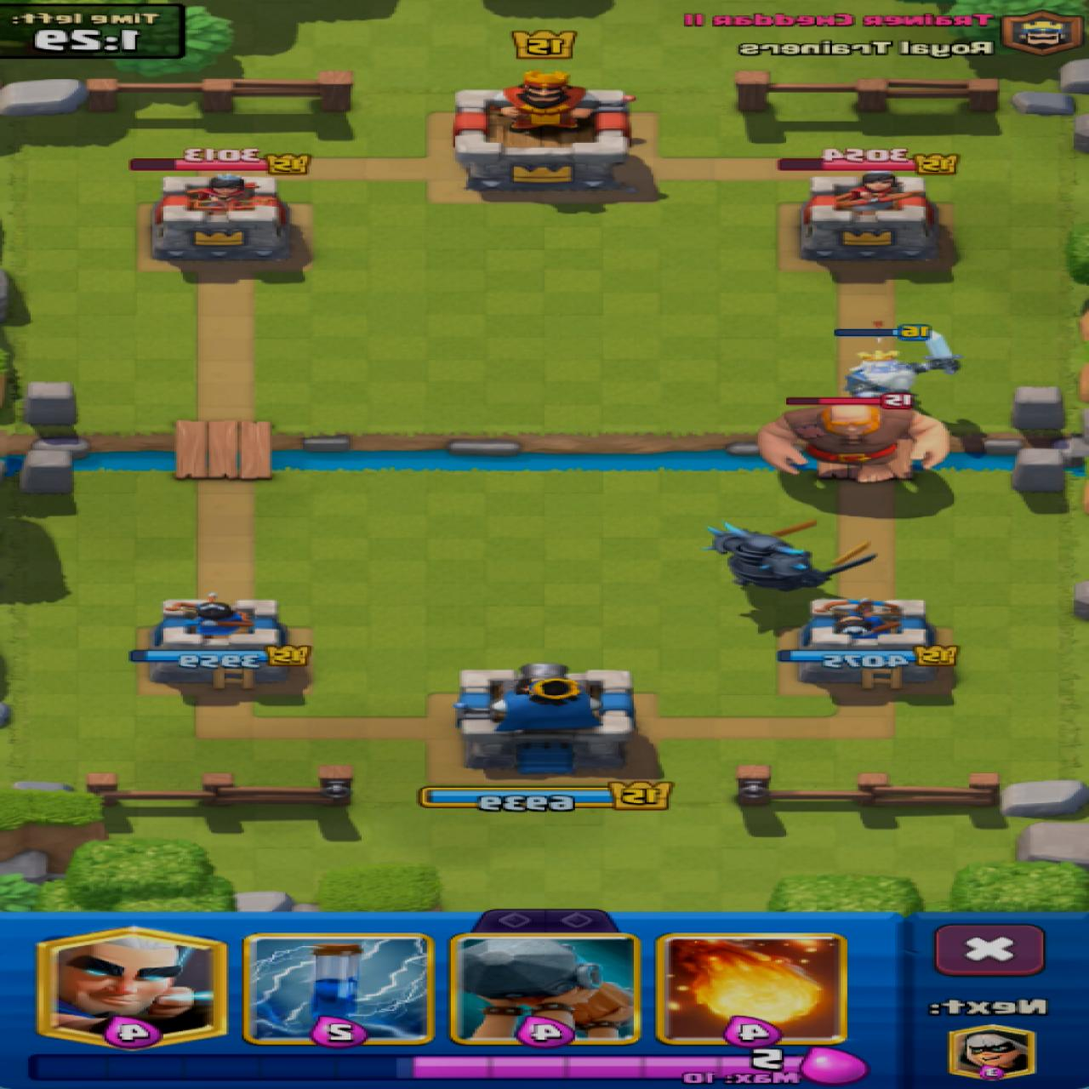Enemy-Giant: (760, 406, 947, 482)
Enemy-KingTower: (455, 73, 632, 194)
Enemy-PrincessTower: (802, 171, 939, 258), (155, 173, 290, 261)
